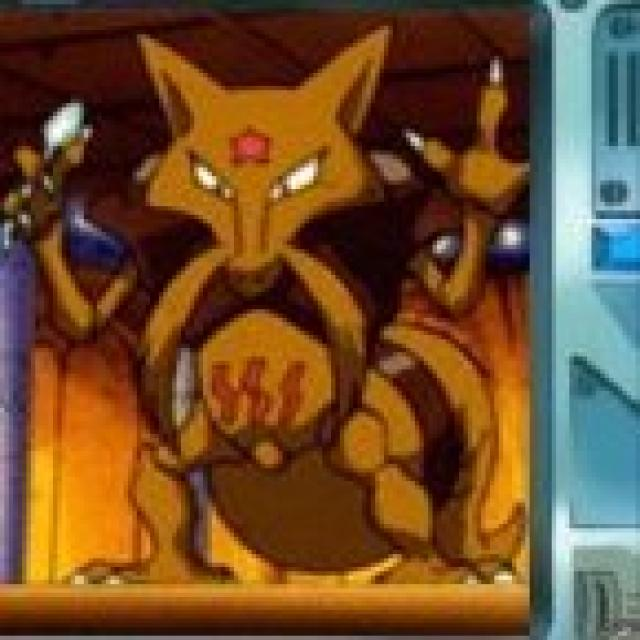Kadabra: (76, 29, 458, 577)
